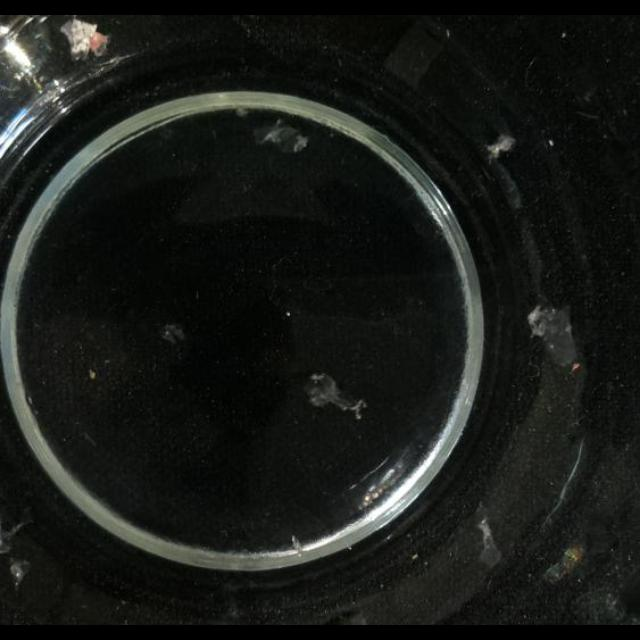Fibre: (528, 304, 580, 368), (256, 118, 310, 154), (475, 509, 503, 569), (0, 515, 30, 559), (485, 134, 515, 158), (10, 559, 30, 589), (160, 324, 186, 346), (290, 536, 304, 556)
Fragment: (304, 372, 368, 418)
